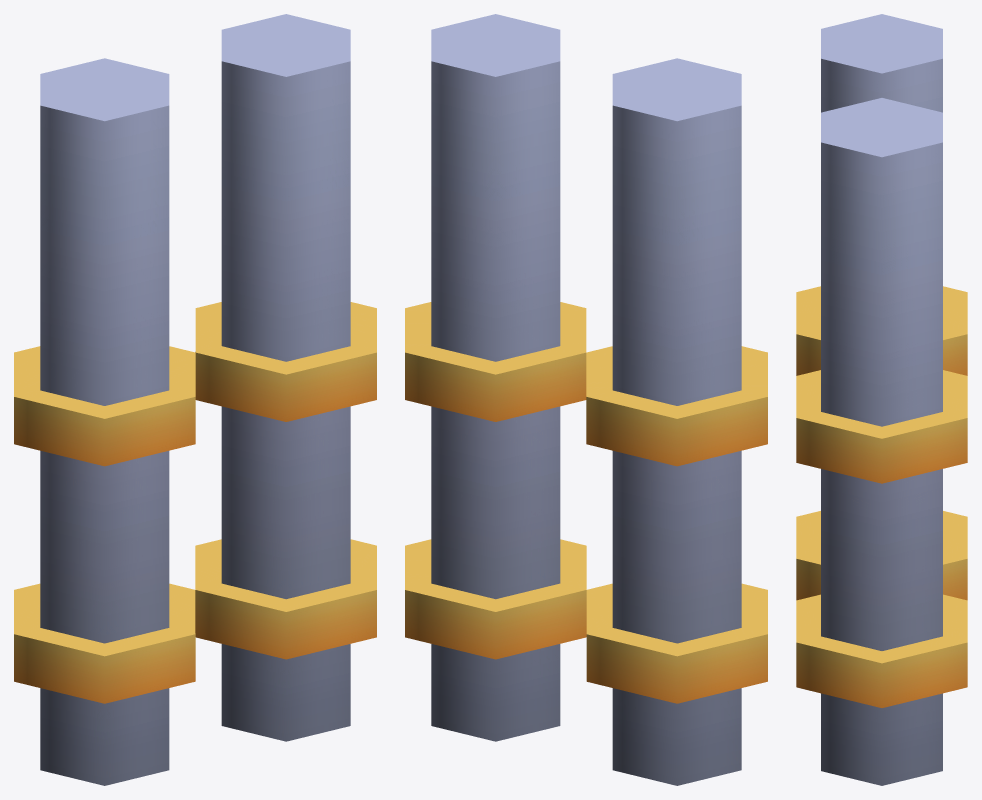
File: kenney-space-station-wall-detail.glb
The picture shows the model from 3 angles, left to right: view 1: azimuth 30°, elevation 25°; view 2: azimuth 150°, elevation 25°; view 3: azimuth 270°, elevation 25°; orthographic projection. The views are drawn at different scales.
Visible parts, largest first — view 1: wall-detail, Group (×2); view 2: wall-detail, Group (×2); view 3: wall-detail, Group (×2).
Boxes of the visible parts, <box> form: wall-detail: <box>14,14,376,785</box>; Group (×2): <box>14,302,376,466</box>; wall-detail: <box>405,14,767,785</box>; Group (×2): <box>405,302,767,466</box>; wall-detail: <box>796,14,967,785</box>; Group (×2): <box>796,286,967,483</box>.
Bounding box in the file's own units: 0.4 × 0.7 × 0.1732.
1 material, 1 textured.
